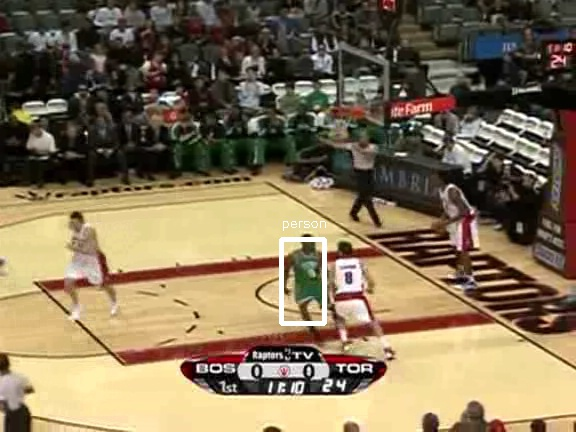person: (294, 238, 328, 319), (293, 238, 327, 319), (295, 238, 329, 319), (294, 237, 328, 318), (294, 239, 328, 320)
target_negative: (472, 156, 545, 277), (114, 87, 346, 108), (293, 281, 335, 378), (469, 116, 513, 166), (316, 370, 343, 424), (570, 206, 575, 305)
